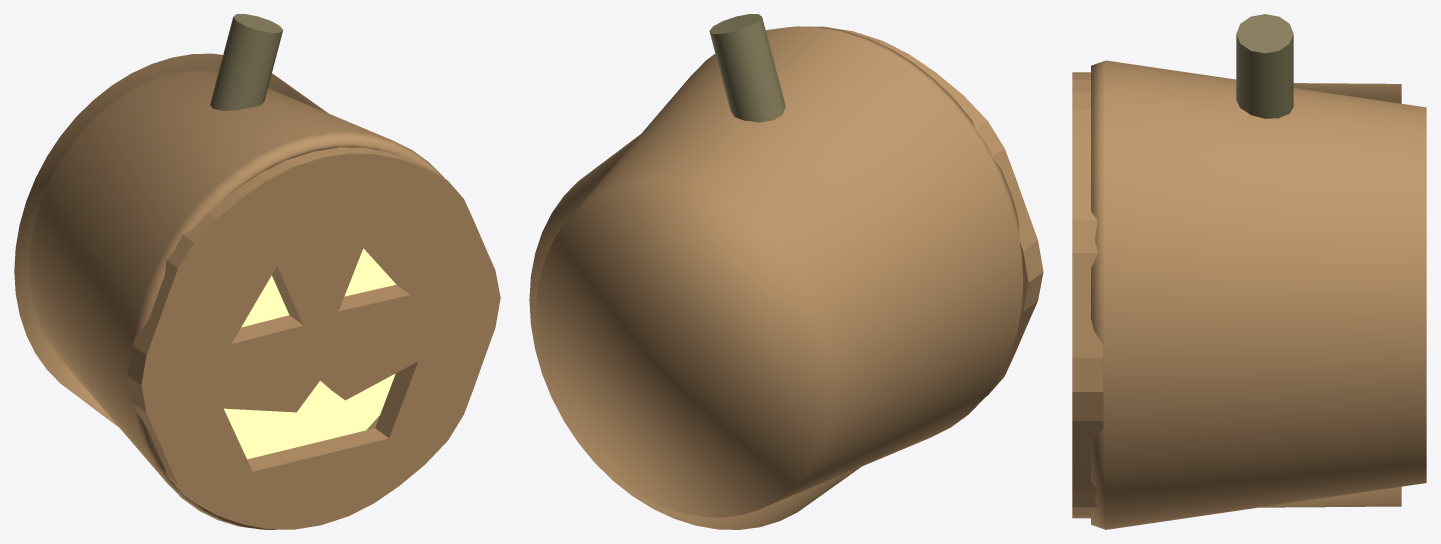
Rendered from jackolantern.glb.
The picture shows the model from 3 angles, left to right: view 1: azimuth 30°, elevation 25°; view 2: azimuth 150°, elevation 25°; view 3: azimuth 270°, elevation 25°; orthographic projection. The views are drawn at different scales.
Visible parts, largest first — view 1: carved-pumpkin-face, hollow-pumpkin-shell, recessed-candle-glow, pumpkin-stem; view 2: hollow-pumpkin-shell, pumpkin-stem, carved-pumpkin-face; view 3: hollow-pumpkin-shell, carved-pumpkin-face, pumpkin-stem.
Boxes of the visible parts, x1=… form: carved-pumpkin-face: x1=127, y1=147, x2=500, y2=529; hollow-pumpkin-shell: x1=14, y1=53, x2=444, y2=529; recessed-candle-glow: x1=224, y1=248, x2=395, y2=459; pumpkin-stem: x1=210, y1=14, x2=282, y2=110; hollow-pumpkin-shell: x1=529, y1=26, x2=1023, y2=529; pumpkin-stem: x1=709, y1=14, x2=785, y2=122; carved-pumpkin-face: x1=815, y1=26, x2=1043, y2=397; hollow-pumpkin-shell: x1=1091, y1=60, x2=1426, y2=529; carved-pumpkin-face: x1=1072, y1=72, x2=1103, y2=518; pumpkin-stem: x1=1236, y1=14, x2=1293, y2=118.
Size of the model in its own units: 0.369 by 0.4419 by 0.285.
